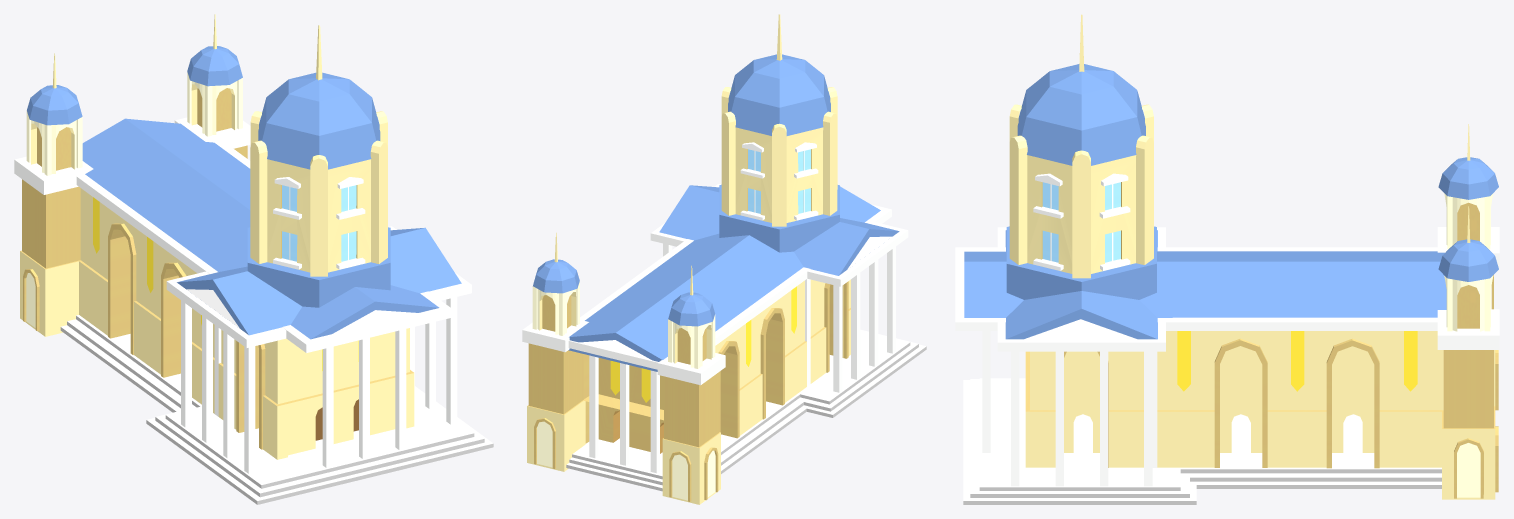
The model's file is temple.004.glb.
The picture shows the model from 3 angles, left to right: view 1: azimuth 30°, elevation 25°; view 2: azimuth 150°, elevation 25°; view 3: azimuth 270°, elevation 25°; orthographic projection. The views are drawn at different scales.
Visible parts, largest first — view 1: temple.004(Clone); view 2: temple.004(Clone); view 3: temple.004(Clone).
Boxes of the visible parts, <box> form: temple.004(Clone): <box>14,14,493,504</box>; temple.004(Clone): <box>522,14,926,504</box>; temple.004(Clone): <box>955,14,1499,504</box>.
Bounding box in the file's own units: 15.21 × 25.53 × 28.93.
1 material, 1 textured.
